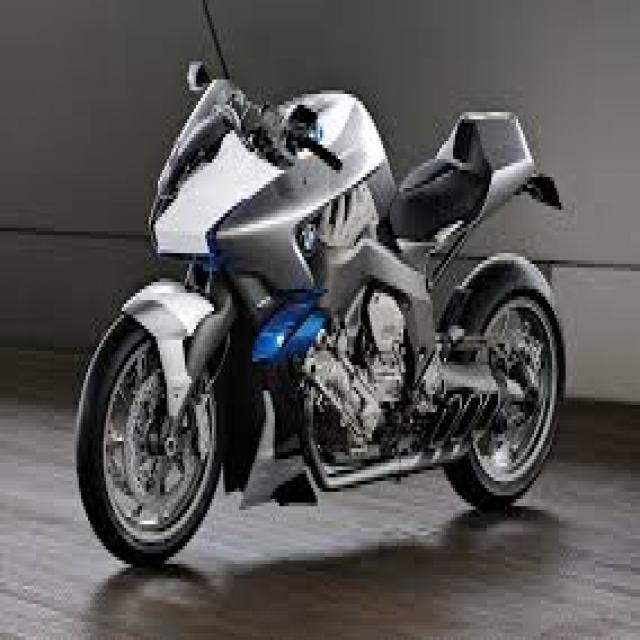Bike: (77, 54, 572, 562)
